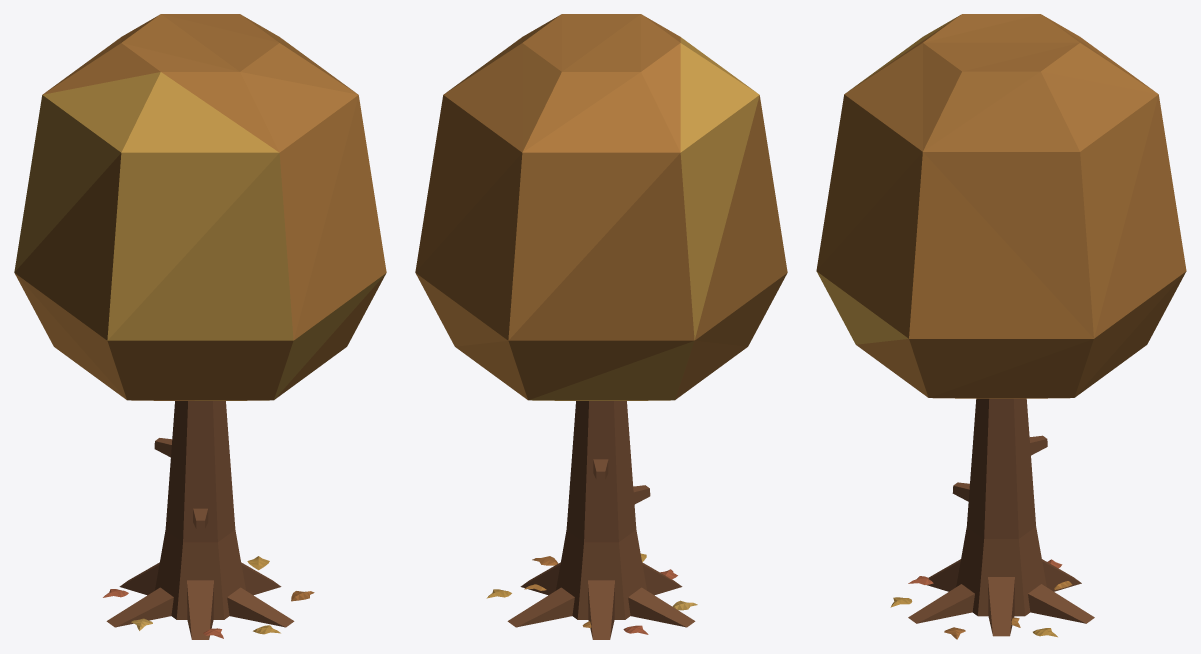
File: tree_oak_autumn.glb
3 renders of one model, left to right at view 1: azimuth 30°, elevation 25°; view 2: azimuth 150°, elevation 25°; view 3: azimuth 270°, elevation 25°, orthographic.
Visible parts, largest first — view 1: geometry; view 2: geometry; view 3: geometry.
Part boxes in pixels (box(x1,y1,x2,y2)): geometry: box(14, 14, 386, 639); geometry: box(415, 14, 787, 639); geometry: box(816, 14, 1186, 639).
Bounding box in the file's own units: 0.6406 × 1.23 × 0.7396.
